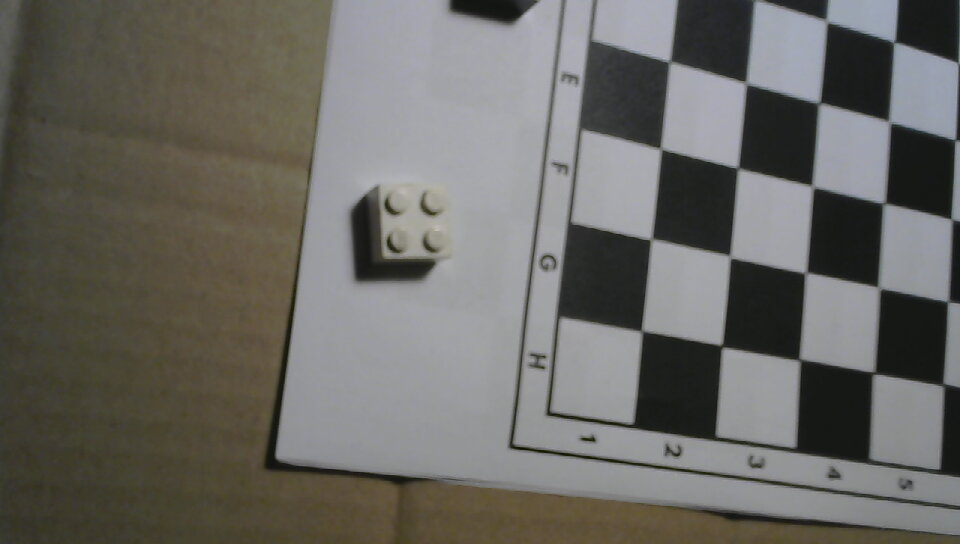wp: (347, 175, 459, 284)
